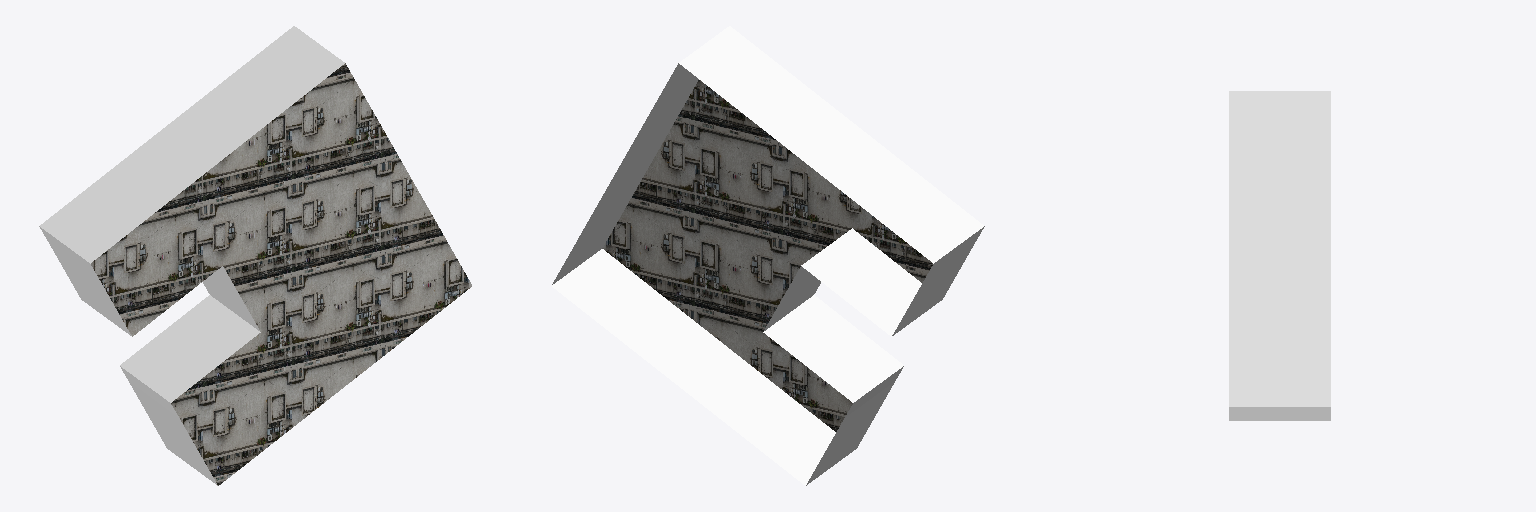
The picture shows the model from 3 angles: view 1: azimuth 30°, elevation 25°; view 2: azimuth 150°, elevation 25°; view 3: azimuth 270°, elevation 25°; orthographic projection.
Parts seen in each view (by area): view 1: Building; view 2: Building; view 3: Building.
Part boxes in pixels (x1,y1,x2,y2): Building: (39, 26, 471, 485); Building: (552, 26, 984, 485); Building: (1229, 91, 1330, 420).
Size of the model in its own units: 12.93 by 12.67 by 3.
2 materials, 1 textured.